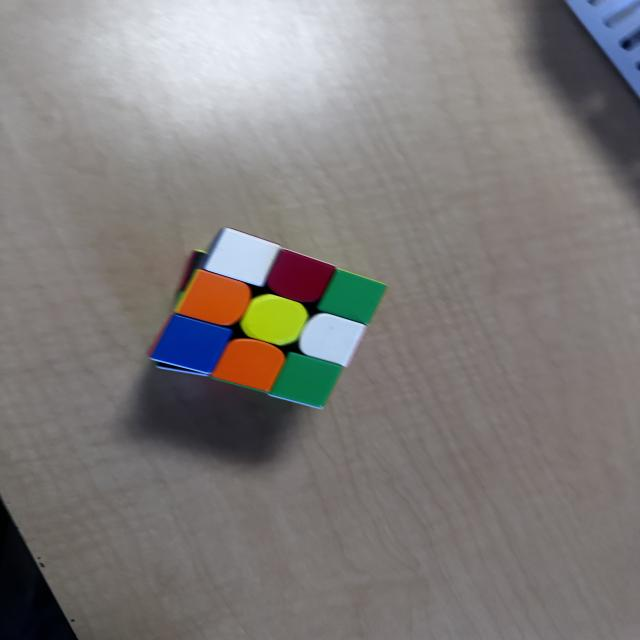sticker: (149, 314, 234, 376), (203, 227, 282, 289), (174, 268, 252, 326), (316, 266, 390, 326), (268, 352, 344, 409), (210, 338, 287, 393), (264, 248, 336, 305), (297, 313, 368, 368), (240, 294, 309, 347), (178, 249, 208, 293), (146, 316, 171, 358)
